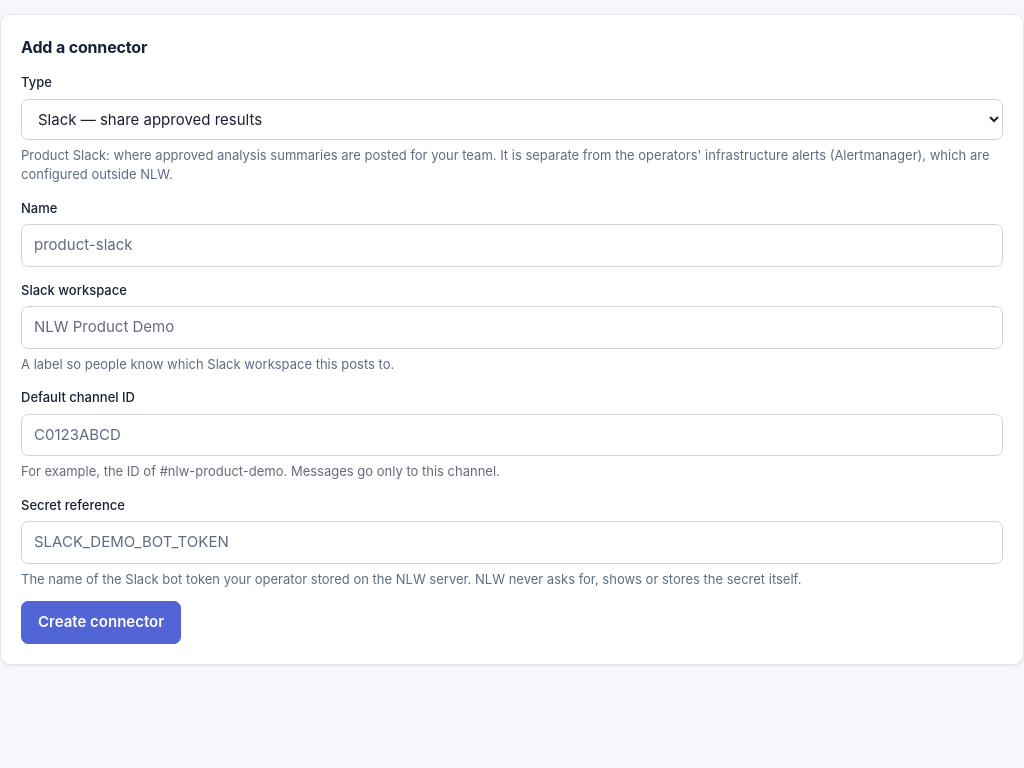
Test case: ConnectorForm: Slack › shows friendly inline errors and sends nothing when required fields are missing
The image size is (1024, 768).
Click the button "Create connector" at [101, 622], box [21,601,181,644]
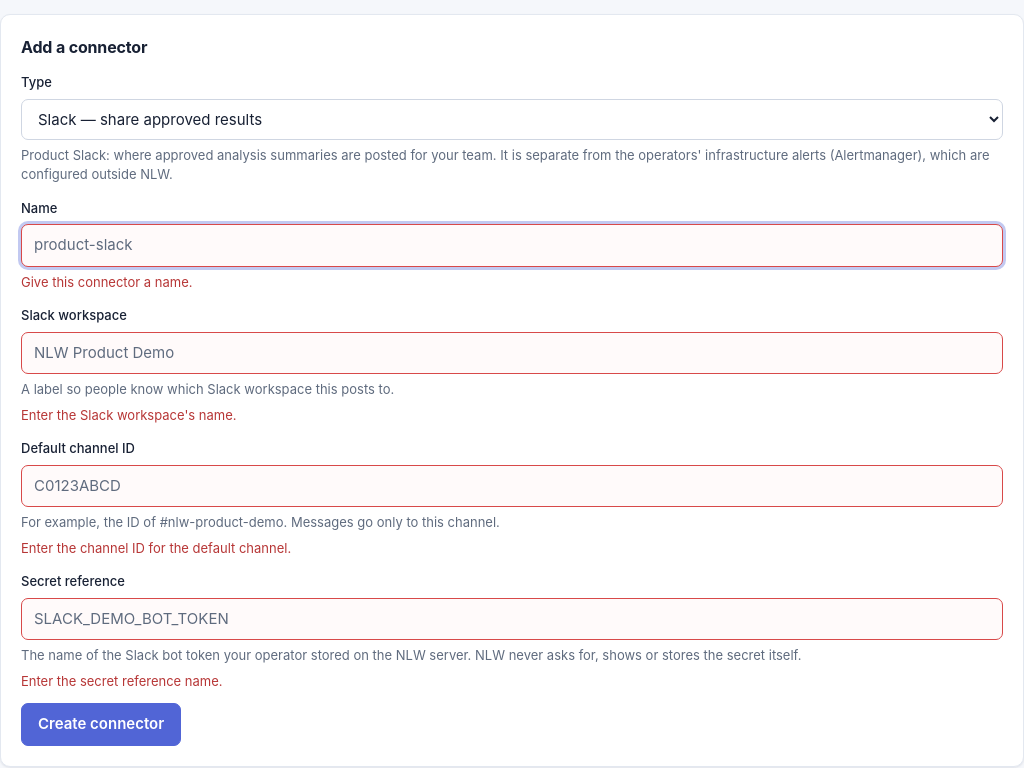
Now the text "Give this connector a name." is shown, box [21,274,192,290]
Now the text "Enter the Slack workspace's name." is shown, box [21,406,236,422]
Now the text "Enter the channel ID for the default channel." is shown, box [21,540,291,556]
